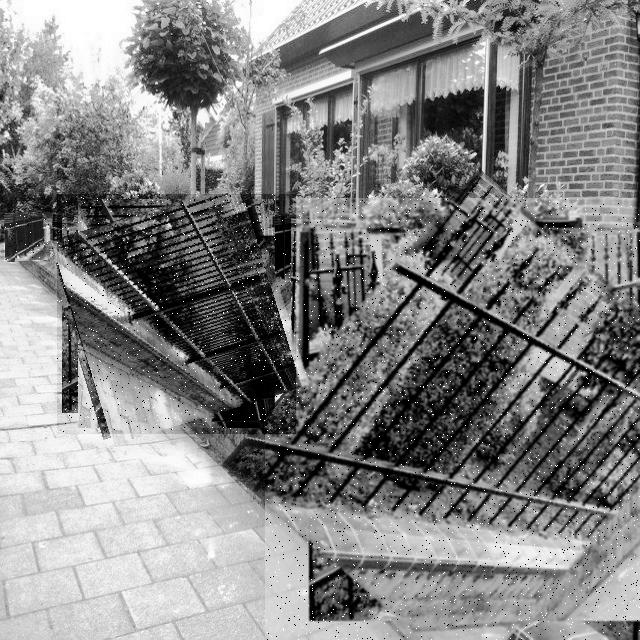fences: (265, 198, 640, 640), (57, 194, 296, 434), (4, 212, 53, 261)
